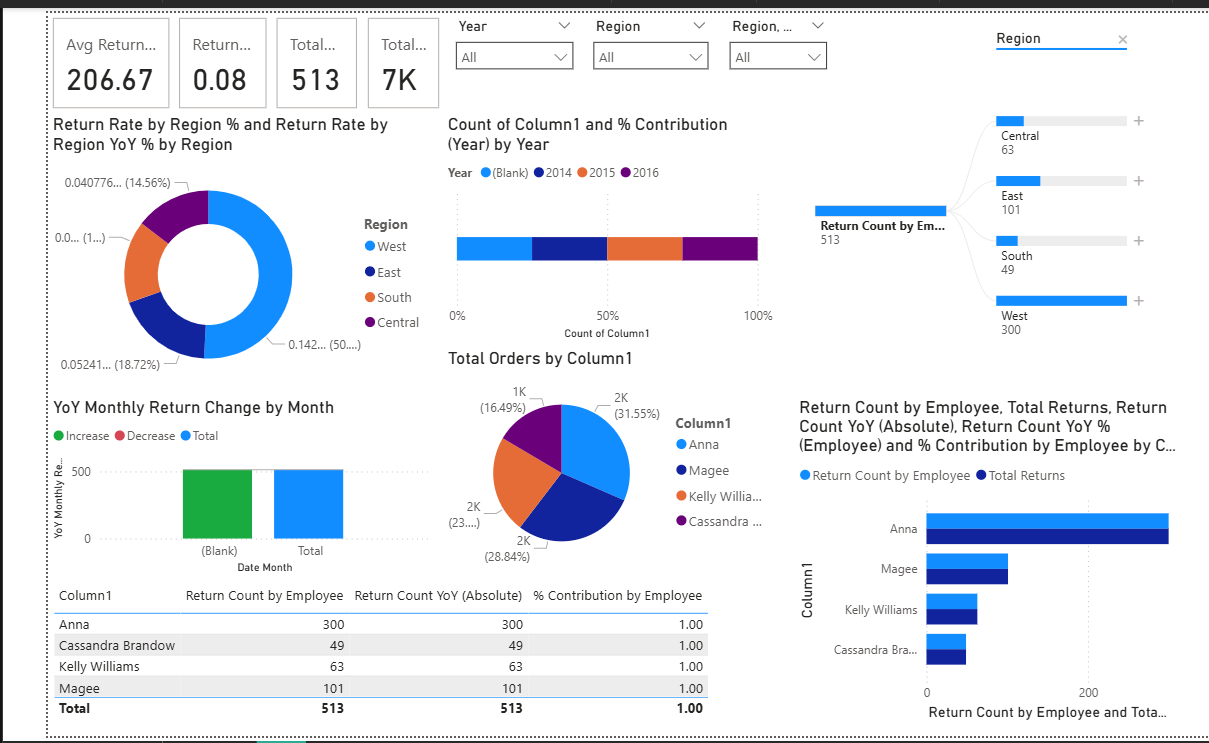

This screenshot's page, from the dashboard's own definition file:
{"tool":"powerbi","page":{"name":"Page 1","canvas":[1280,720],"ordinal":0},"visuals":[{"type":"cardVisual","fields":{"Data":["DateTable.Return Rate %"]},"box":[126,0,97,100.8],"z":0},{"type":"cardVisual","fields":{"Data":["DateTable.Avg Return Value"]},"box":[0,0,126,100.8],"z":1000},{"type":"cardVisual","fields":{"Data":["DateTable.Total Returns"]},"box":[223,0,90.7,100.8],"z":2000},{"type":"donutChart","fields":{"Category":["Orders.Region"],"Y":["DateTable.Return Rate by Region %"]},"box":[0,101.1,384.4,281.1],"z":3000},{"type":"clusteredBarChart","fields":{"Y":["DateTable.Return Count by Employee","DateTable.Total Returns"],"Category":["People.Column1"]},"box":[742.2,382.2,387.8,326.7],"z":4000},{"type":"pieChart","fields":{"Category":["People.Column1"],"Y":["DateTable.Total Orders"]},"box":[393.3,333.3,333.3,230],"z":5000},{"type":"hundredPercentStackedBarChart","fields":{"Y":["People.Column1"],"Series":["DateTable.Date.Variation.Date Hierarchy.Year"]},"box":[393.3,101.1,333.3,228.9],"z":6000},{"type":"tableEx","fields":{"Values":["People.Column1","DateTable.Return Count by Employee","DateTable.Return Count YoY (Absolute)","DateTable.% Contribution by Employee"]},"box":[0,563.3,667.9,156.3],"z":7000},{"type":"waterfallChart","fields":{"Category":["DateTable.Date.Variation.Date Hierarchy.Month"],"Y":["DateTable.YoY Monthly Return Change"]},"box":[0,382.2,384.4,181.1],"z":8000},{"type":"decompositionTreeVisual","fields":{"Analyze":["DateTable.Return Count by Employee"],"ExplainBy":["Orders.Region","DateTable.Date.Variation.Date Hierarchy.Month","People.Column1"]},"box":[734.4,0,372.2,372.2],"z":9000},{"type":"cardVisual","fields":{"Data":["DateTable.Total Orders"]},"box":[313.8,0,81.9,100.8],"z":10000},{"type":"slicer","fields":{"Values":["DateTable.Date.Variation.Date Hierarchy.Year"]},"box":[395.7,0,137.4,100.8],"z":11000},{"type":"slicer","fields":{"Values":["Orders.Region"]},"box":[533,0,134.8,100.8],"z":12000},{"type":"slicer","fields":{"Values":["Orders.Region","People.Column1"]},"box":[667.9,0,117.2,100.8],"z":13000}]}

Visuals, with their boxes on the page's 1280x720 design canvas (x1, y1, x2, y2). These are canvas units, not pixel positions in the 1209x743 screenshot, which may show the page scaled, cropped or inside an application window:
cardVisual - DateTable.Return Rate %: 126, 0, 223, 101
cardVisual - DateTable.Avg Return Value: 0, 0, 126, 101
cardVisual - DateTable.Total Returns: 223, 0, 314, 101
donutChart - Orders.Region x DateTable.Return Rate by Region %: 0, 101, 384, 382
clusteredBarChart - DateTable.Return Count by Employee x DateTable.Total Returns: 742, 382, 1130, 709
pieChart - People.Column1 x DateTable.Total Orders: 393, 333, 727, 563
hundredPercentStackedBarChart - People.Column1 x DateTable.Date.Variation.Date Hierarchy.Year: 393, 101, 727, 330
tableEx - People.Column1 x DateTable.Return Count by Employee: 0, 563, 668, 720
waterfallChart - DateTable.Date.Variation.Date Hierarchy.Month x DateTable.YoY Monthly Return Change: 0, 382, 384, 563
decompositionTreeVisual - DateTable.Return Count by Employee x Orders.Region: 734, 0, 1107, 372
cardVisual - DateTable.Total Orders: 314, 0, 396, 101
slicer - DateTable.Date.Variation.Date Hierarchy.Year: 396, 0, 533, 101
slicer - Orders.Region: 533, 0, 668, 101
slicer - Orders.Region x People.Column1: 668, 0, 785, 101
